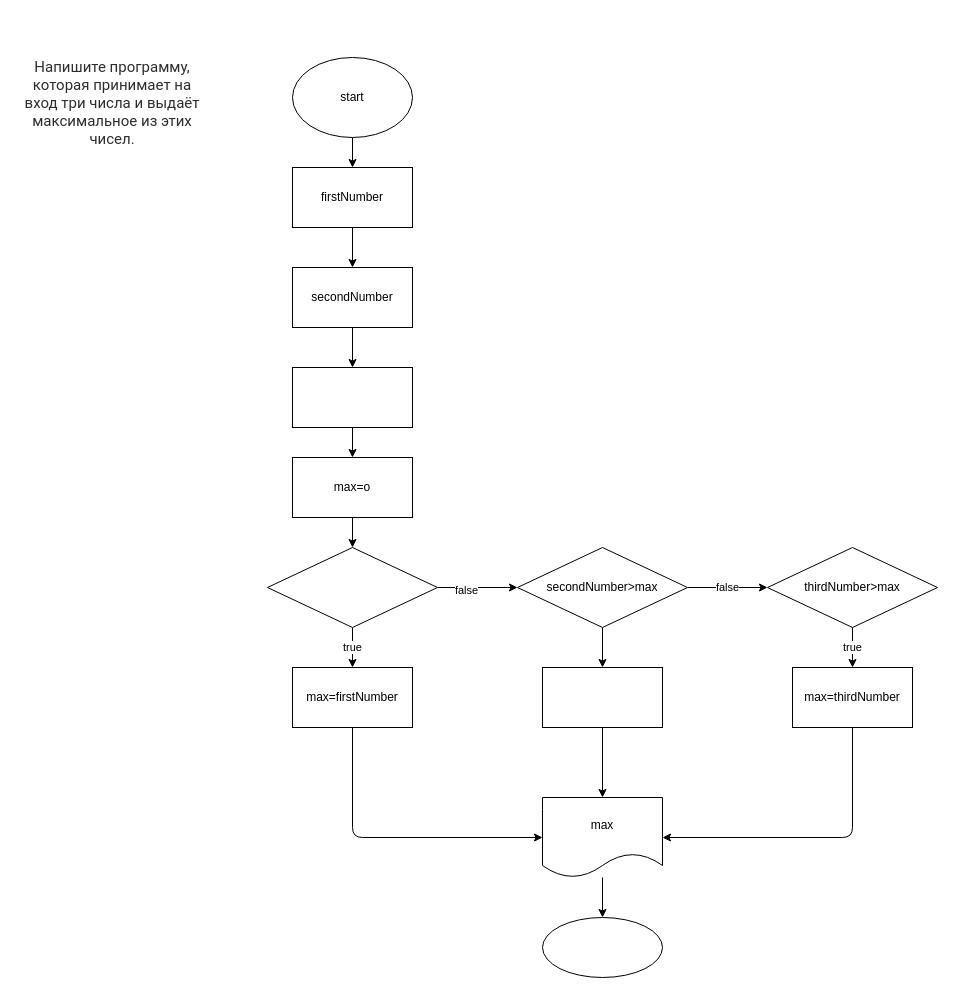
Some shapes in this 955 by 995 pixel diagram are drawn without their labels. Here are the shapes that lost their labels. From the top down, the centre of each, then its label:
point (352, 397): thirdNumber
point (352, 587): firstNumber>max
point (602, 697): max=secondNumber
point (602, 947): end
